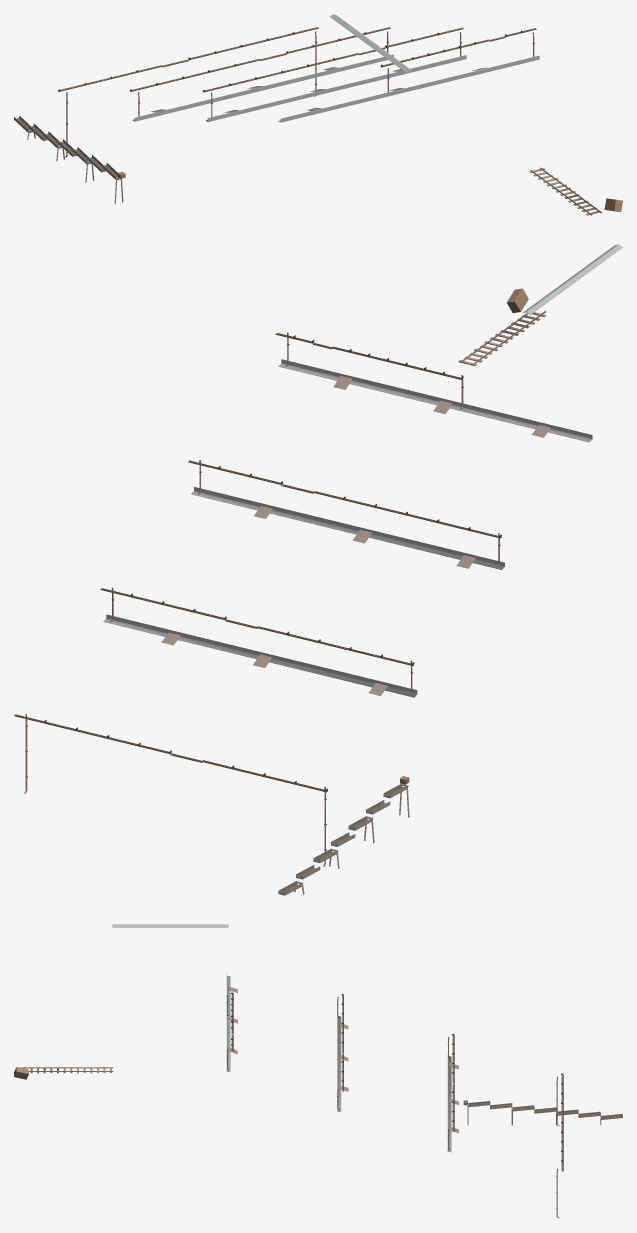
Rendered from mill_exterior.glb.
The picture shows the model from 3 angles, top to bottom: view 1: azimuth 30°, elevation 25°; view 2: azimuth 150°, elevation 25°; view 3: azimuth 270°, elevation 25°; orthographic projection. The views are drawn at different scales.
Parts seen in each view (by area): view 1: static; view 2: static; view 3: static.
Boxes of the visible parts, bbox=[...] form: static: bbox=[14, 14, 622, 215]; static: bbox=[14, 244, 622, 895]; static: bbox=[14, 924, 622, 1218].
Bounding box in the file's own units: 21.1 × 22 × 55.1.
